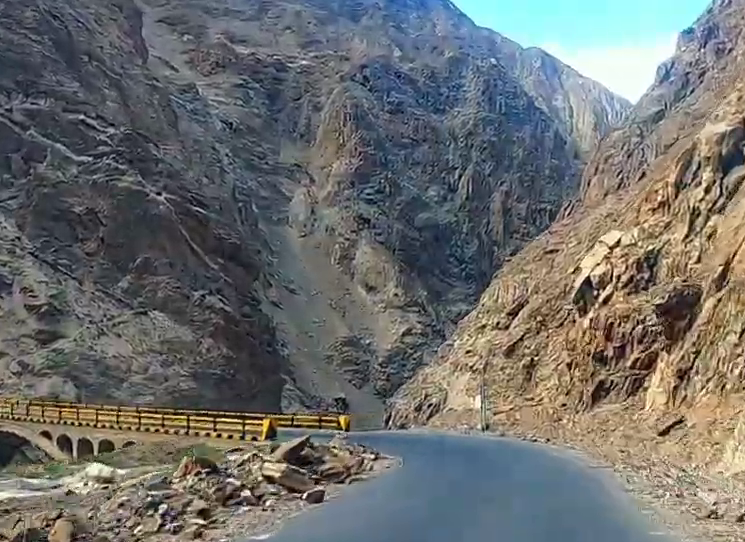right: (286, 384, 630, 533)
